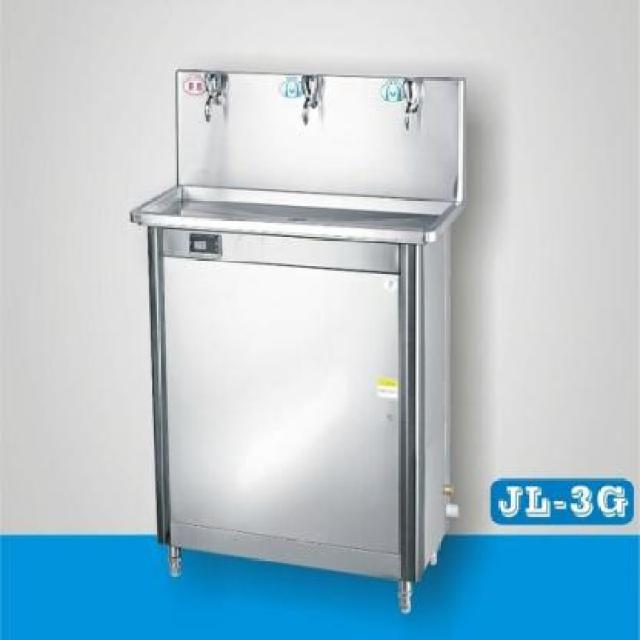cooler: (126, 59, 467, 616)
